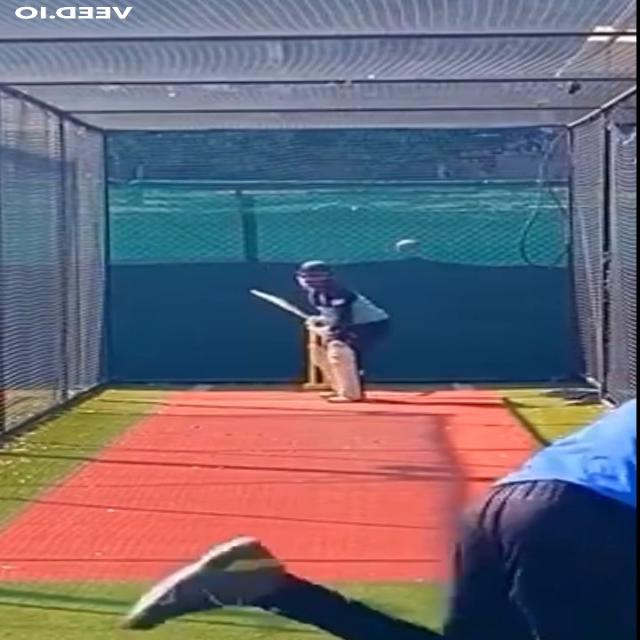ball: (393, 237, 424, 256)
